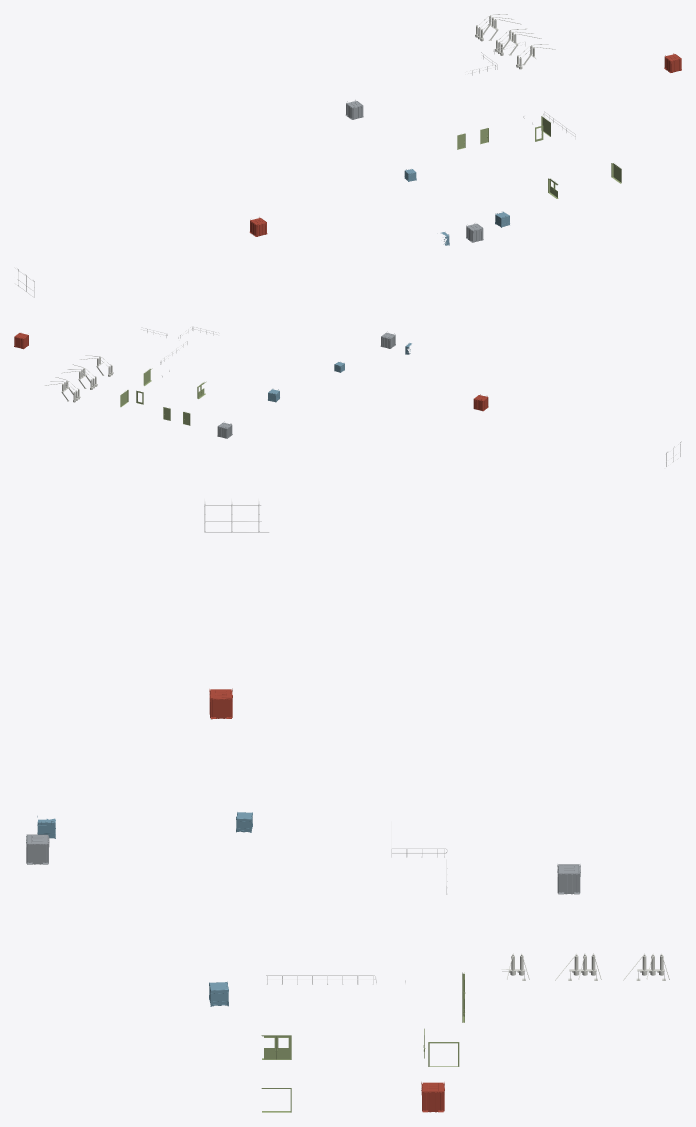
The picture shows the model from 3 angles, top to bottom: view 1: azimuth 30°, elevation 25°; view 2: azimuth 150°, elevation 25°; view 3: azimuth 270°, elevation 25°; orthographic projection. The views are drawn at different scales.
Visible parts, largest first — view 1: n0_lr0_agg_nomerge_transformer_wires_color_0_fragment1_c1_-1, n0_lr0_agg_merge_metal_door_001_0_fragment5_c1_0; view 2: n0_lr0_agg_nomerge_transformer_wires_color_0_fragment1_c1_-1, n0_lr0_agg_merge_metal_door_001_0_fragment5_c1_0, n0_lr0_agg_merge_metal_crate_002b_1_fragment3_c0_1; view 3: n0_lr0_agg_nomerge_transformer_wires_color_0_fragment1_c1_-1, n0_lr0_agg_merge_metal_crate_002b_1_fragment3_c0_1, n0_lr0_agg_merge_metal_door_001_0_fragment5_c1_0.
Boxes of the visible parts, x1,y1,x2,y2 form: n0_lr0_agg_nomerge_transformer_wires_color_0_fragment1_c1_-1: [475, 14, 555, 69]; n0_lr0_agg_merge_metal_door_001_0_fragment5_c1_0: [457, 116, 621, 198]; n0_lr0_agg_nomerge_transformer_wires_color_0_fragment1_c1_-1: [44, 355, 113, 402]; n0_lr0_agg_merge_metal_door_001_0_fragment5_c1_0: [120, 368, 206, 425]; n0_lr0_agg_merge_metal_crate_002b_1_fragment3_c0_1: [268, 343, 411, 402]; n0_lr0_agg_nomerge_transformer_wires_color_0_fragment1_c1_-1: [501, 953, 669, 980]; n0_lr0_agg_merge_metal_crate_002b_1_fragment3_c0_1: [37, 812, 252, 1006]; n0_lr0_agg_merge_metal_door_001_0_fragment5_c1_0: [261, 972, 465, 1112].
Size of the model in its own units: 5942 by 895 by 2725.
